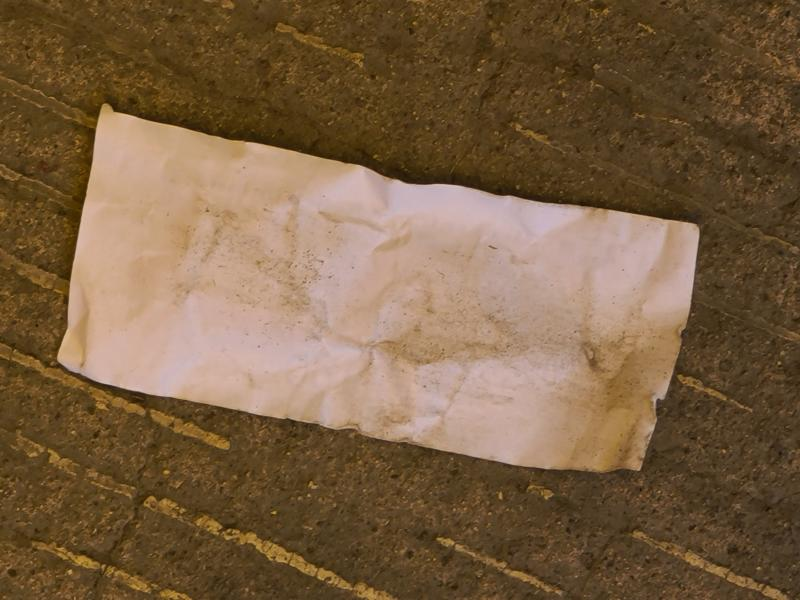papel: (53, 108, 701, 475)
